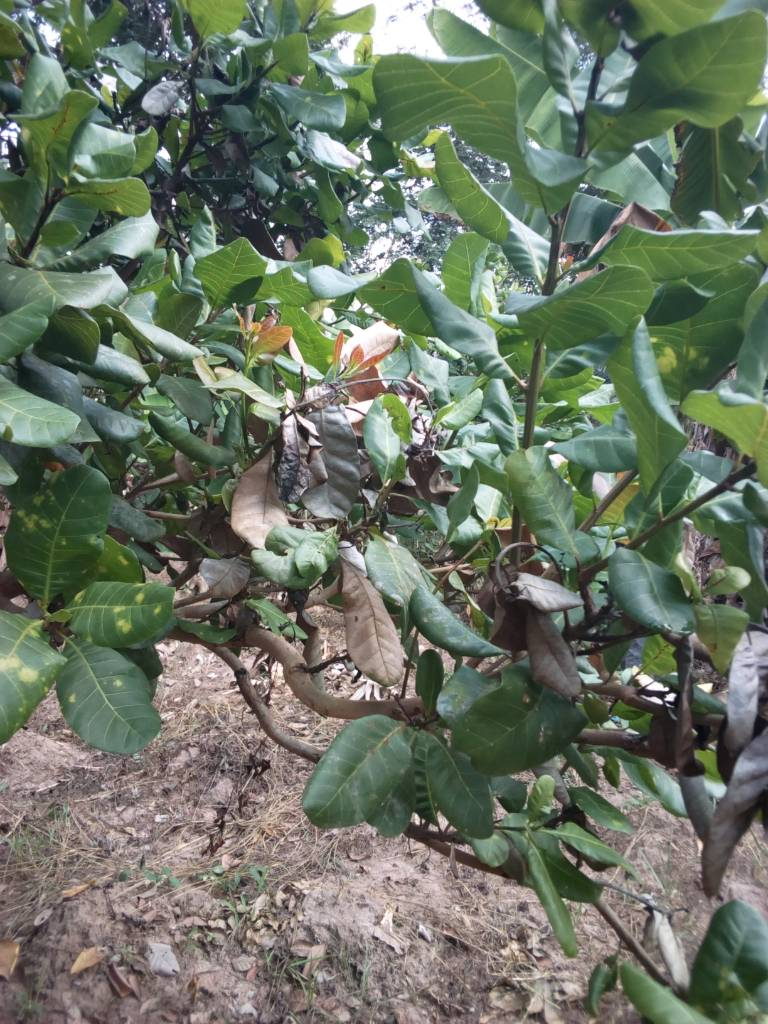Die-black: (331, 549, 418, 697), (301, 391, 365, 523), (511, 609, 593, 712), (721, 624, 762, 788), (667, 514, 723, 605), (504, 564, 593, 617)
